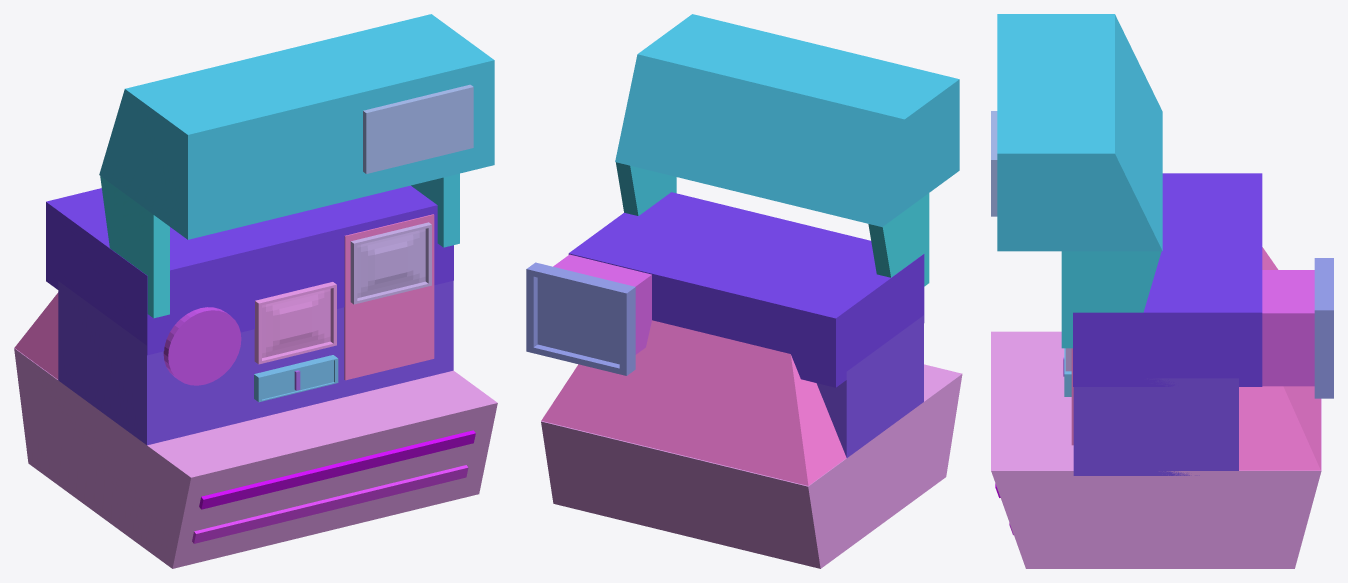
File: polaroid_colored 1.fbx
3 renders of one model, left to right at view 1: azimuth 30°, elevation 25°; view 2: azimuth 150°, elevation 25°; view 3: azimuth 270°, elevation 25°, orthographic. The views are drawn at different scales.
Visible parts, largest first — view 1: Cylinder; view 2: Cylinder; view 3: Cylinder.
Boxes of the visible parts, x1=… form: Cylinder: x1=14, y1=14, x2=497, y2=568; Cylinder: x1=526, y1=14, x2=962, y2=568; Cylinder: x1=991, y1=14, x2=1333, y2=568.
Bounding box in the file's own units: 206 × 277 × 208.
